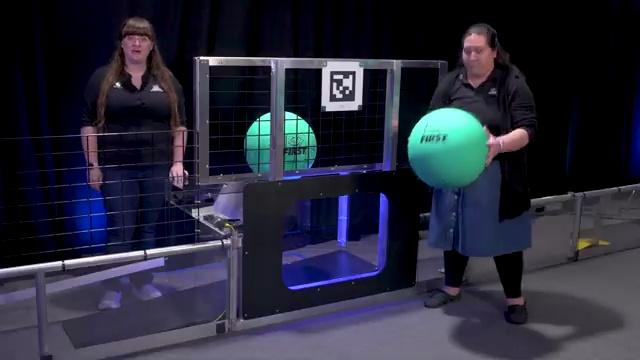ALGAE: (406, 106, 489, 190), (243, 110, 318, 181)
